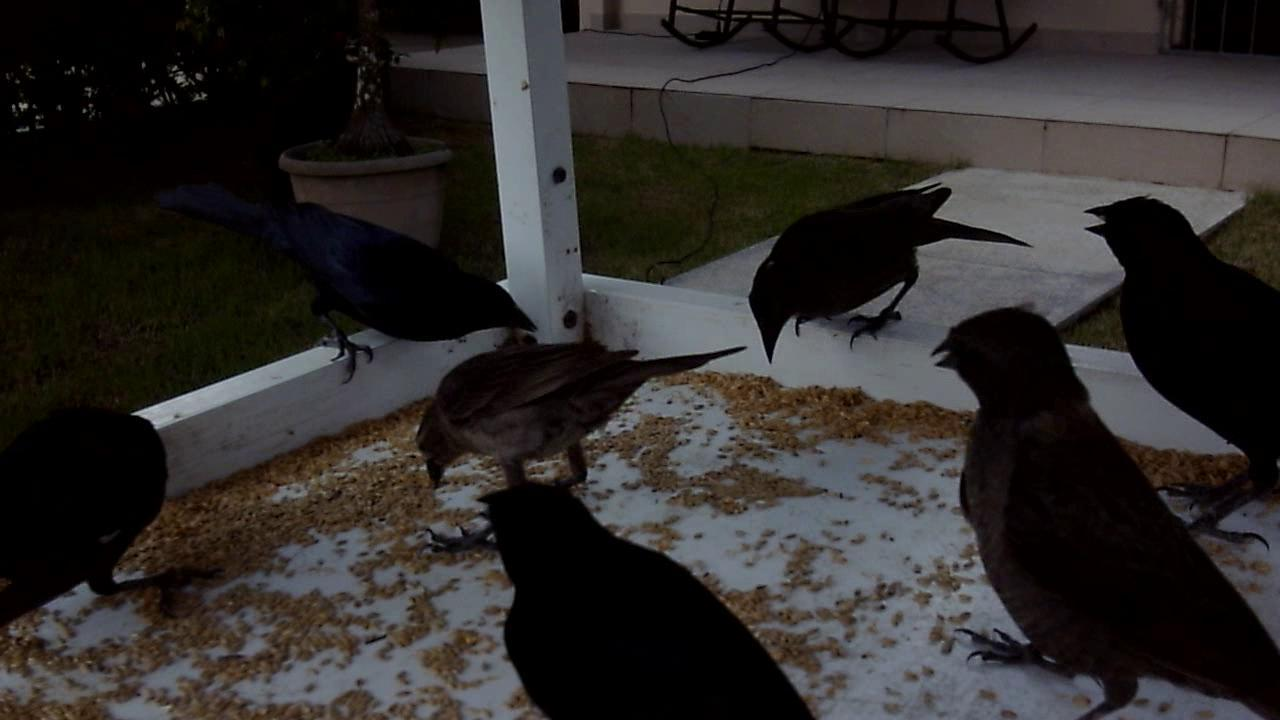chupim: (923, 305, 1280, 718), (159, 171, 540, 406), (460, 475, 827, 707), (1070, 189, 1280, 549), (401, 316, 750, 532), (1, 381, 245, 653), (737, 170, 1040, 371)
